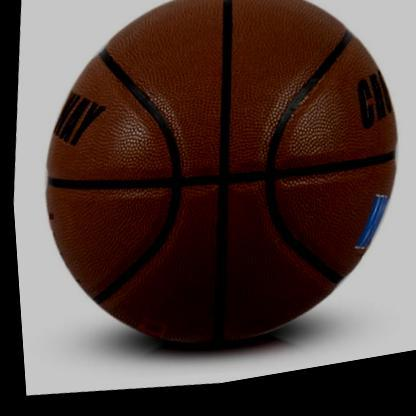basketball: (17, 0, 416, 394)
